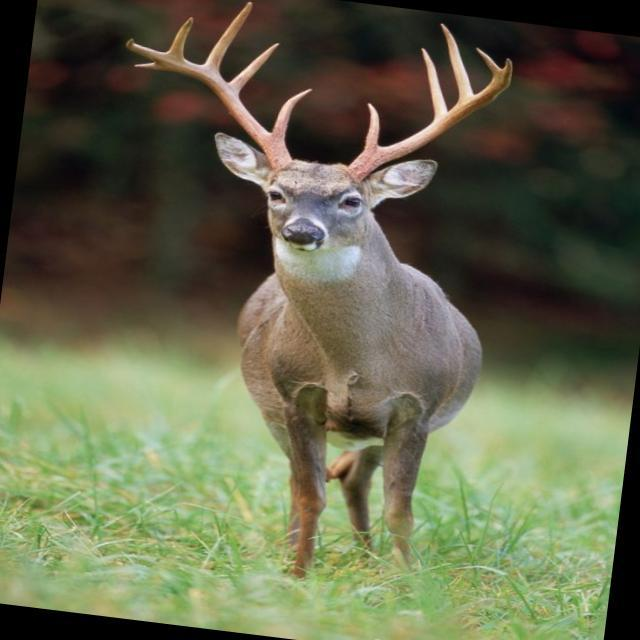E1: (133, 62, 159, 70)
E2: (500, 58, 512, 89)
L-F: (346, 47, 506, 180)
L-G1: (364, 103, 380, 148)
L-G2: (420, 47, 447, 120)
L-G3: (439, 23, 474, 102)
R-F: (126, 38, 290, 172)
R-G1: (271, 88, 312, 147)
R-G2: (228, 42, 279, 94)
R-G3: (201, 1, 253, 74)
R-G4: (164, 16, 193, 58)
